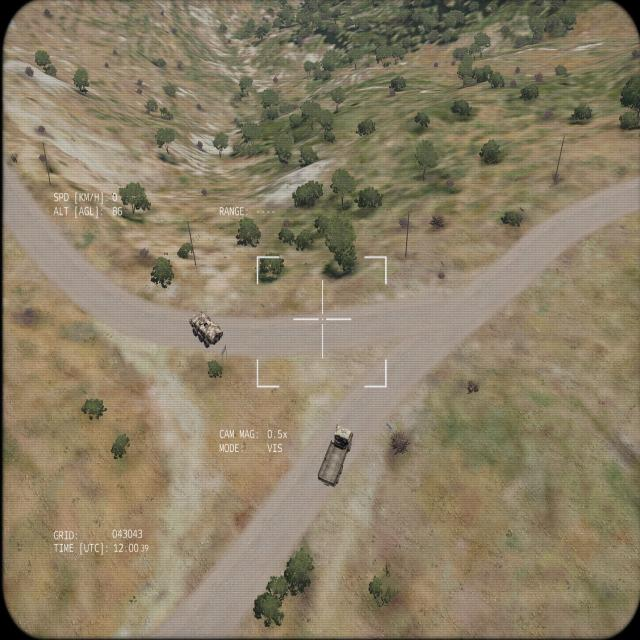apc: (188, 309, 222, 349)
truck: (317, 422, 352, 487)
